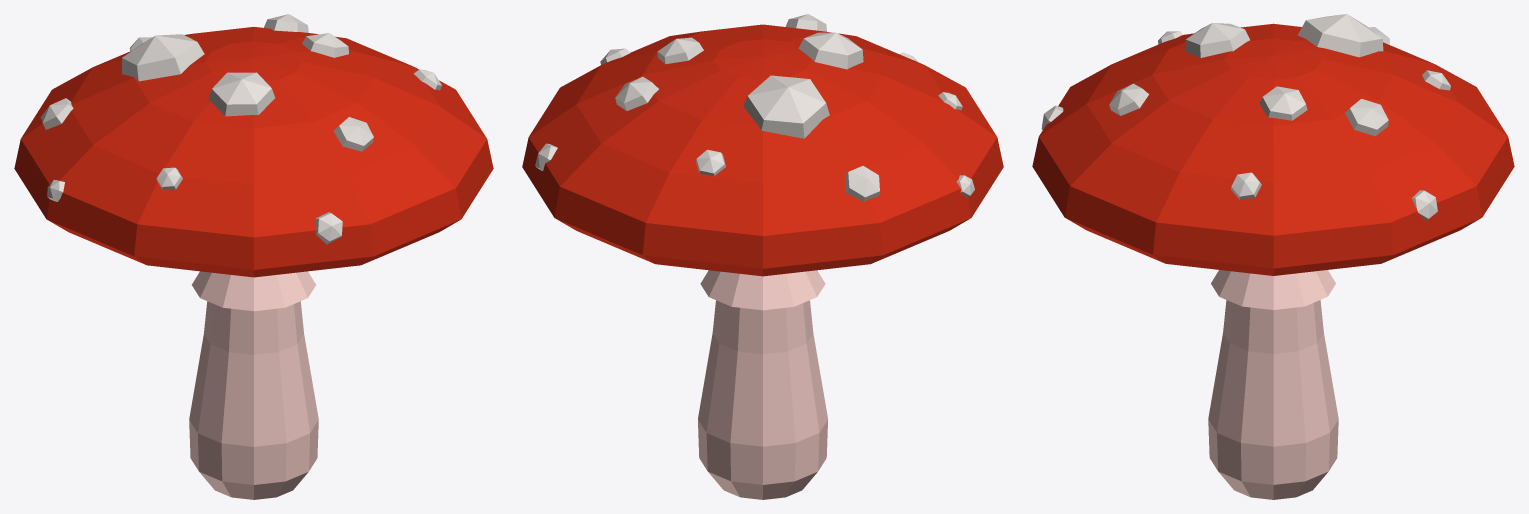
Rendered from Mushroom_01.fbx.
3 renders of one model, left to right at view 1: azimuth 30°, elevation 25°; view 2: azimuth 150°, elevation 25°; view 3: azimuth 270°, elevation 25°, orthographic.
Visible parts, largest first — view 1: Mushroom_01; view 2: Mushroom_01; view 3: Mushroom_01.
Part boxes in pixels (x1,y1,x2,y2): Mushroom_01: (14,14,493,499); Mushroom_01: (522,14,1003,499); Mushroom_01: (1032,14,1514,499).
Bounding box in the file's own units: 203 × 203 × 203.
